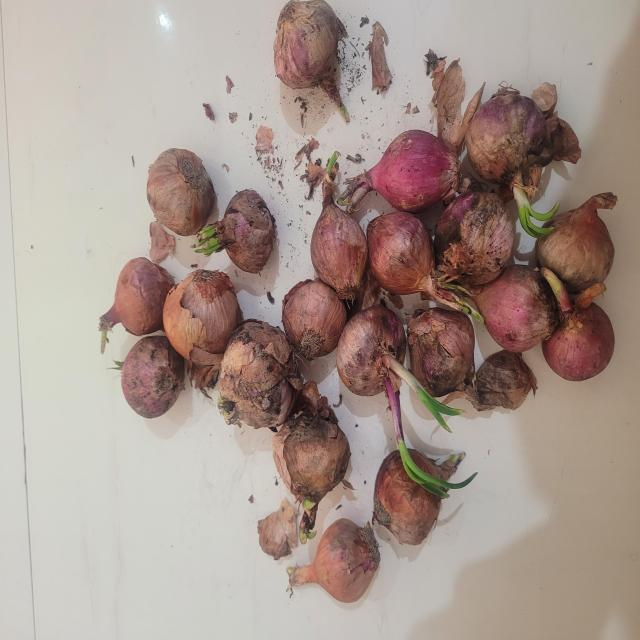rotten: (465, 89, 558, 238), (273, 0, 350, 123), (310, 151, 367, 302), (288, 518, 380, 603), (436, 190, 512, 286), (98, 258, 174, 353), (372, 451, 446, 544), (147, 148, 215, 236), (280, 418, 348, 499), (120, 336, 185, 418), (283, 280, 344, 359), (225, 361, 303, 421), (220, 193, 274, 273), (469, 351, 537, 411), (234, 318, 293, 376), (188, 216, 236, 258), (423, 280, 473, 320), (187, 343, 226, 394), (272, 418, 296, 495), (341, 364, 395, 397), (527, 120, 559, 172), (408, 347, 438, 398), (515, 151, 547, 197), (560, 268, 608, 297), (358, 263, 384, 313), (437, 388, 479, 414), (346, 269, 370, 314), (382, 274, 428, 297), (282, 280, 310, 312), (393, 322, 406, 367)
sprouting: (339, 130, 460, 213), (541, 268, 615, 381)
